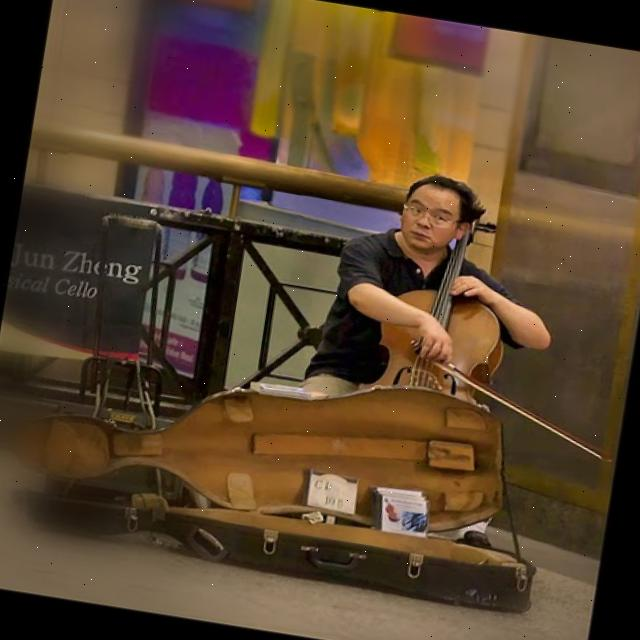cello: (371, 201, 520, 416)
